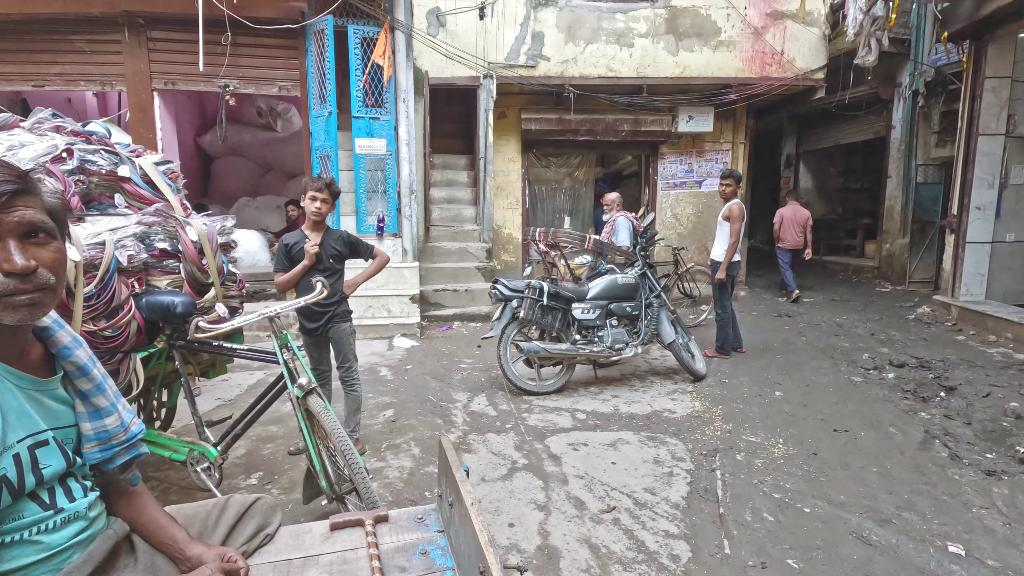garbage: (389, 332, 423, 353)
